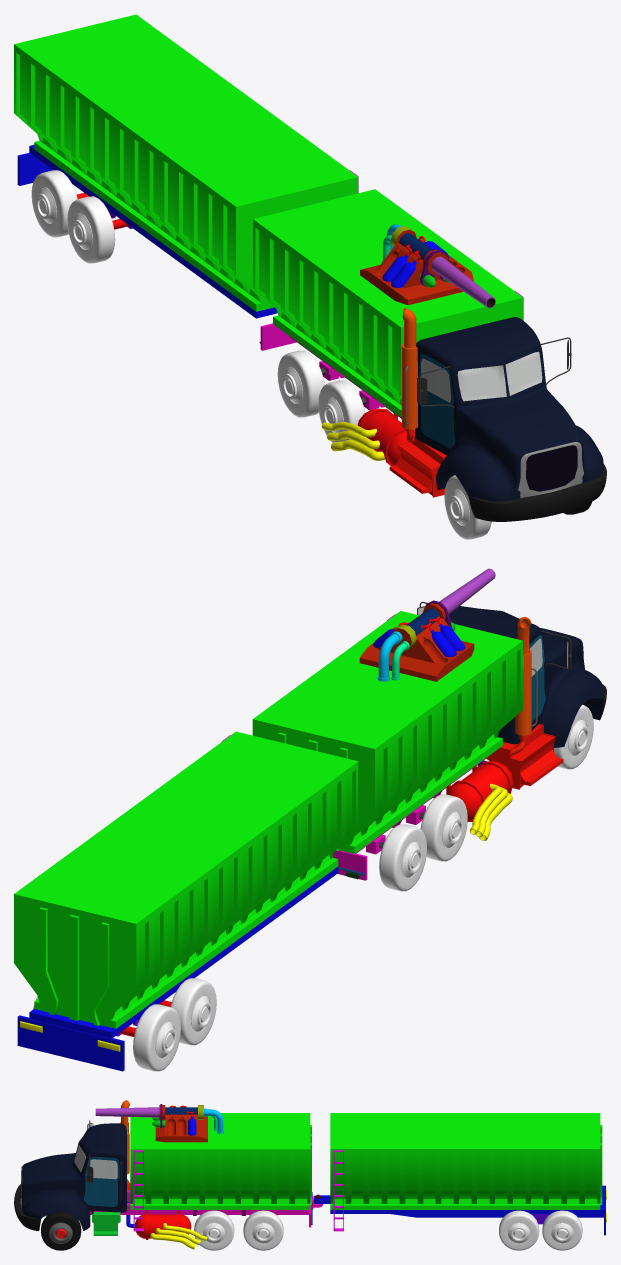
Rendered from camion mat.fbx.
3 views of the same model, one above another, from view 1: azimuth 30°, elevation 25°; view 2: azimuth 150°, elevation 25°; view 3: azimuth 270°, elevation 25° (orthographic). The views are drawn at different scales.
Visible parts, largest first — view 1: benne remorque mat, carcasse mat, benne mat, remorque base mat, Pneu mat008, Pneu mat007, Pneu mat009, Pneu mat006, Pneu mat 005; view 2: benne remorque mat, benne mat, carcasse mat, remorque base mat, Pneu mat009, Pneu mat007, Pneu mat006, Pneu mat008, Pneu mat 005; view 3: benne remorque mat, benne mat, carcasse mat, remorque base mat, Pneu mat004, Pneu mat002, Pneu mat003, Pneu mat, Pneu mat001.
Part boxes in pixels (bbox=[...]): benne remorque mat: bbox=[14, 14, 358, 311]; carcasse mat: bbox=[259, 308, 606, 521]; benne mat: bbox=[253, 189, 523, 417]; remorque base mat: bbox=[17, 145, 277, 318]; Pneu mat008: bbox=[67, 196, 115, 263]; Pneu mat007: bbox=[277, 350, 324, 417]; Pneu mat009: bbox=[31, 170, 77, 237]; Pneu mat006: bbox=[318, 380, 365, 442]; Pneu mat 005: bbox=[444, 475, 491, 539]; benne remorque mat: bbox=[14, 731, 358, 1028]; benne mat: bbox=[252, 568, 522, 853]; carcasse mat: bbox=[333, 601, 606, 880]; remorque base mat: bbox=[17, 866, 338, 1071]; Pneu mat009: bbox=[133, 1004, 180, 1071]; Pneu mat007: bbox=[379, 824, 426, 891]; Pneu mat006: bbox=[420, 794, 467, 861]; Pneu mat008: bbox=[170, 978, 216, 1045]; Pneu mat 005: bbox=[554, 704, 593, 769]; benne remorque mat: bbox=[330, 1113, 602, 1231]; benne mat: bbox=[95, 1104, 311, 1231]; carcasse mat: bbox=[14, 1100, 322, 1249]; remorque base mat: bbox=[313, 1185, 606, 1235]; Pneu mat004: bbox=[542, 1210, 582, 1250]; Pneu mat002: bbox=[243, 1210, 283, 1250]; Pneu mat003: bbox=[499, 1210, 539, 1250]; Pneu mat: bbox=[41, 1212, 81, 1250]; Pneu mat001: bbox=[194, 1210, 234, 1250].
Size of the model in its own units: 115 by 149 by 624.
